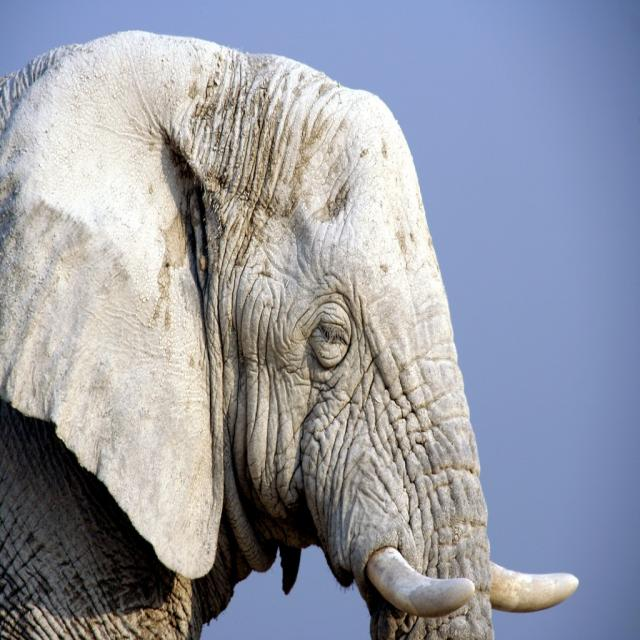Elephant: (4, 15, 559, 640)
